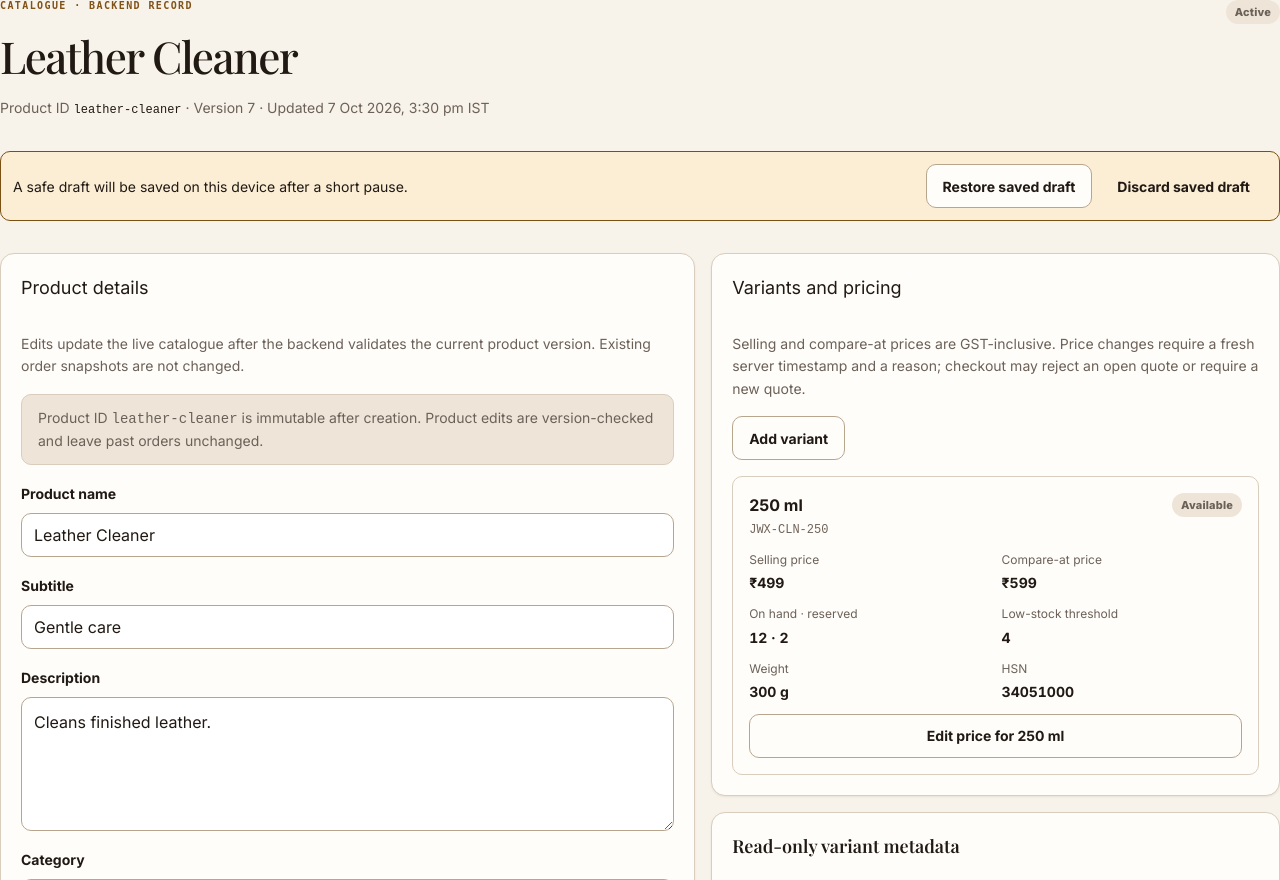
Test case: ProductEditor › adds a variant only after review and hard-codes the new variant inactive
Click the button "Add variant" at (789, 438), box [732,416,845,460]
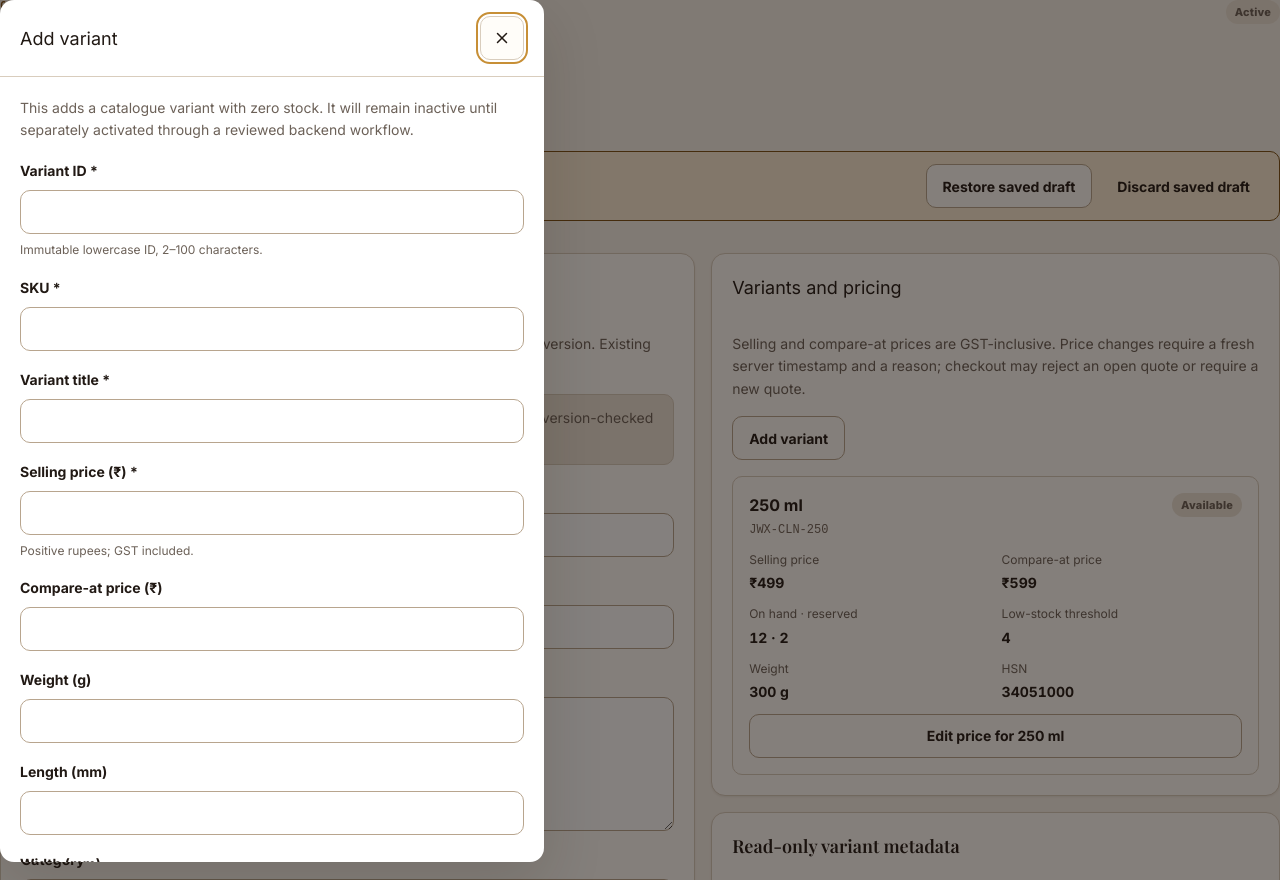
Type "cleaner-500" into the field labelled "Variant ID *" at (272, 212), box [20,190,524,234]
Type "JWX-CLN-500" into the field labelled "SKU" at (272, 329), box [20,307,524,351]
Type "500 ml" into the field labelled "Variant title" at (272, 421), box [20,399,524,443]
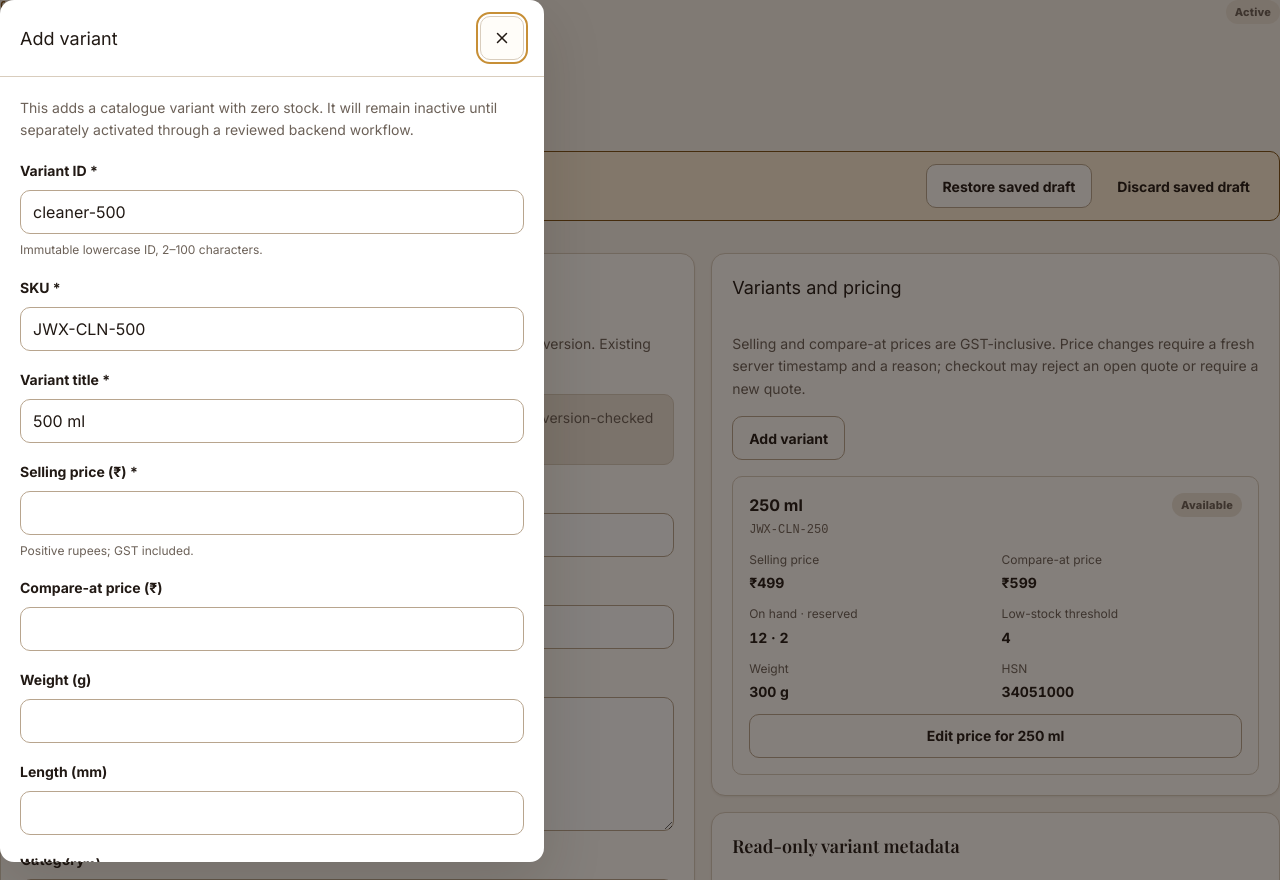
Type "799" into the field labelled "Selling price (₹) *" at (272, 513), box [20,491,524,535]
(page scrolled)
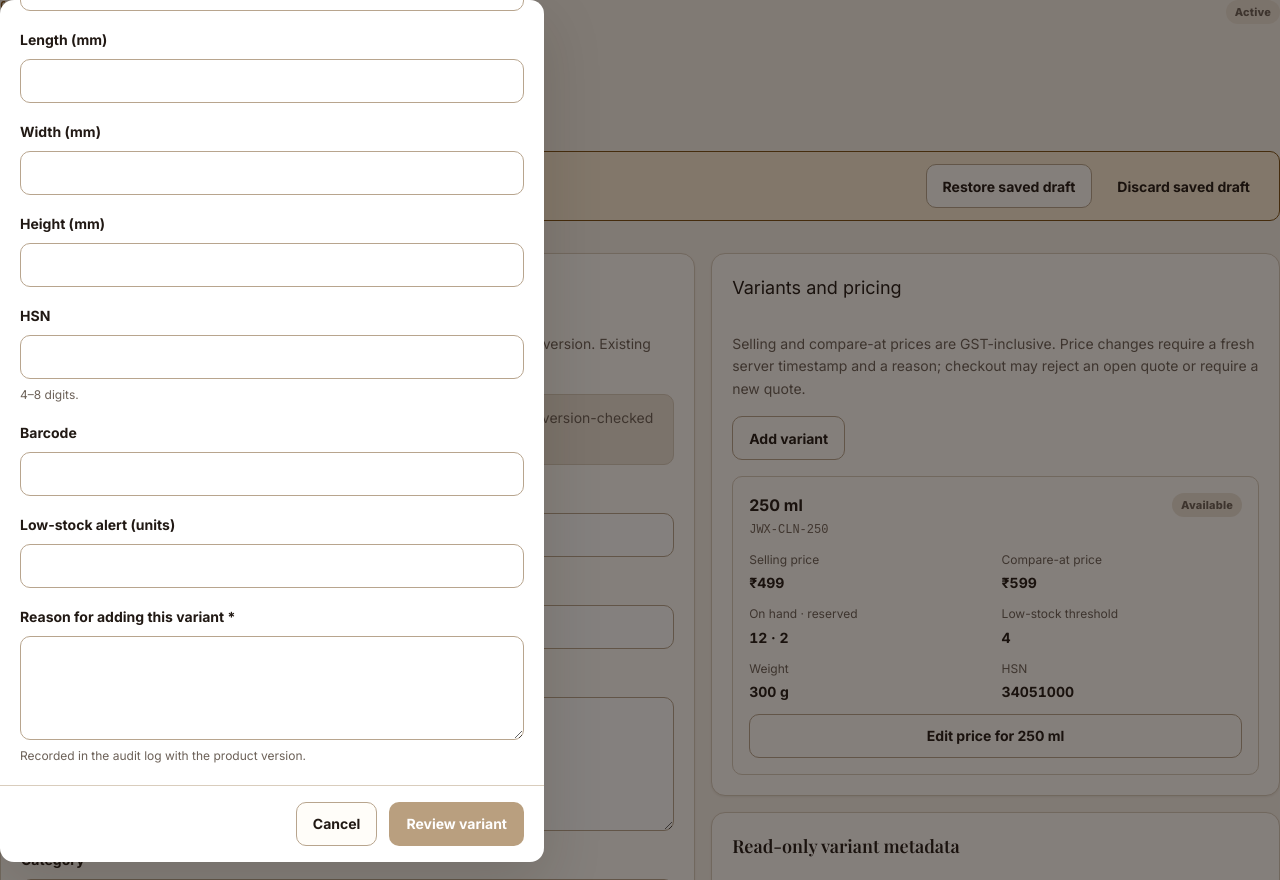
Type "Add the 500 ml size" into the text box labelled "Reason for adding this variant *" at (272, 688), box [20,636,524,740]
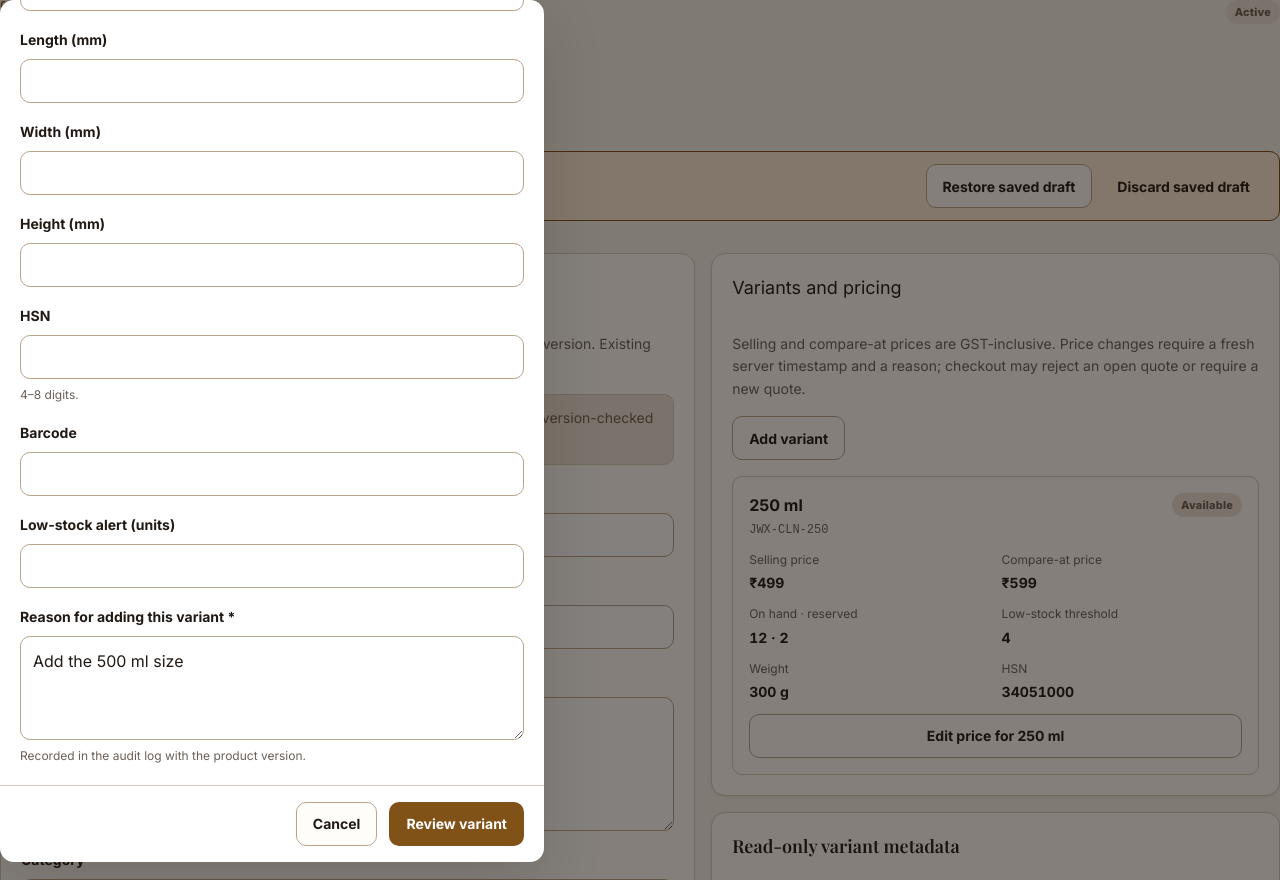
Click the button "Review variant" at (457, 824), box [389,802,524,846]
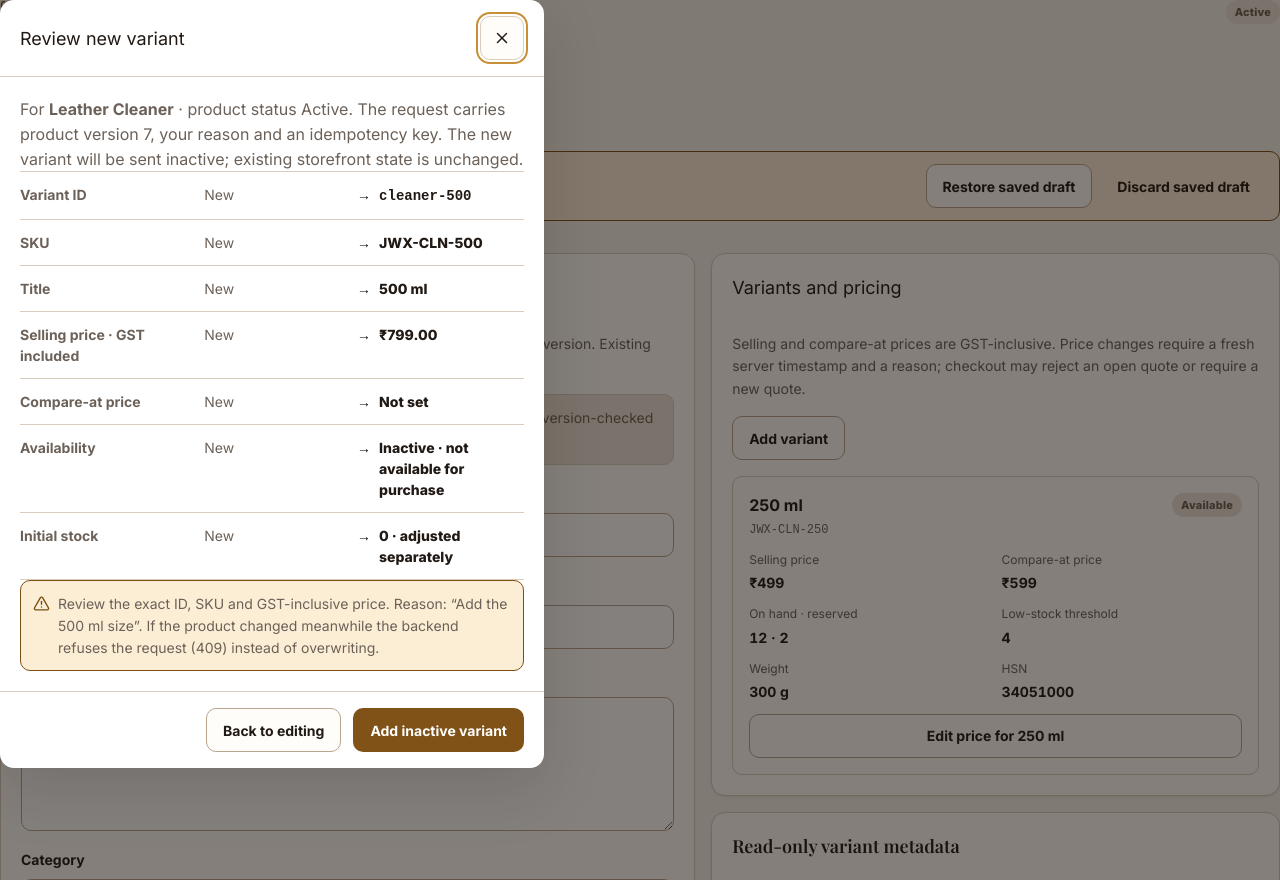
Now the text "₹799.00" is shown, box [379,326,437,343]
Now the text "Inactive · not available for purchase" is shown, box [379,439,472,498]
Click the button "Add inactive variant" at (439, 730), box [353,708,524,752]
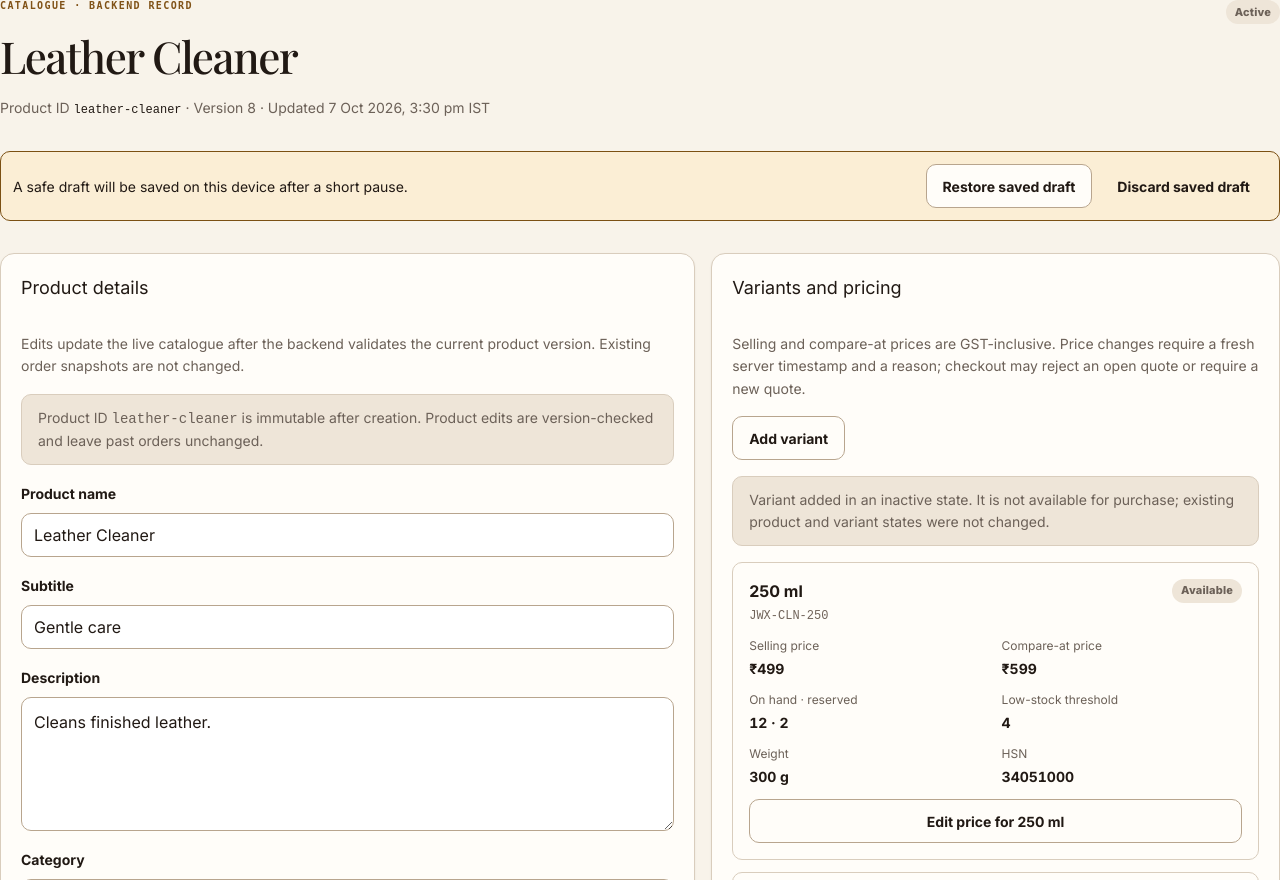
Now the text "Variant added in an inactive state" is shown, box [749,491,1234,530]
